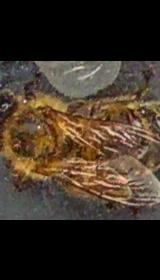varroa_mite: (6, 138, 24, 154)
